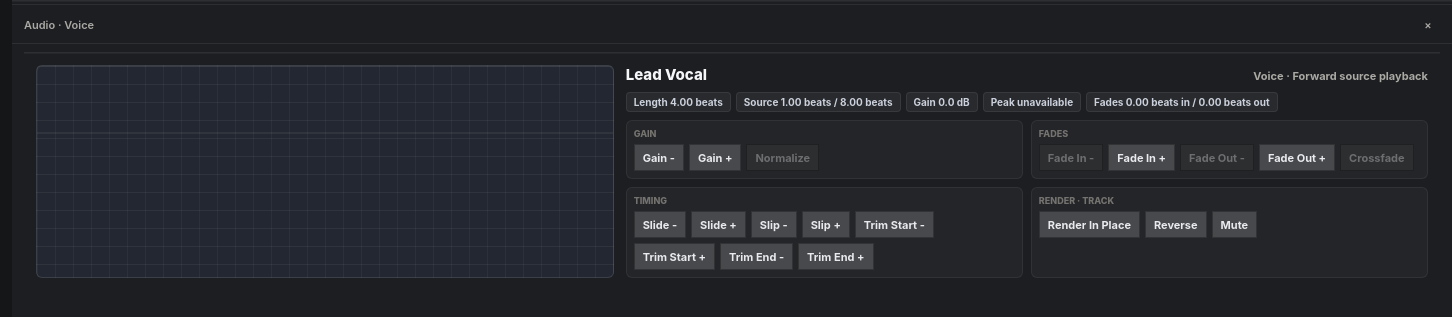
Test: AudioClipEditorPanel render errors › shows an inline render error when the render bridge is unavailable
Click the button "Render In Place" at (1089, 224), box x1=1039 y1=211 x2=1140 y2=238
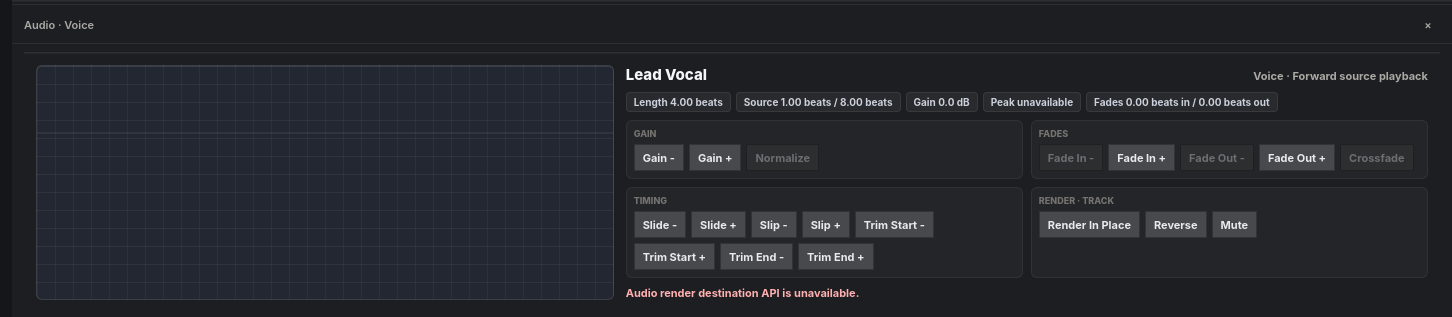
Expected: the text "Audio render destination API is unavailable." is shown, x1=626 y1=286 x2=859 y2=300
